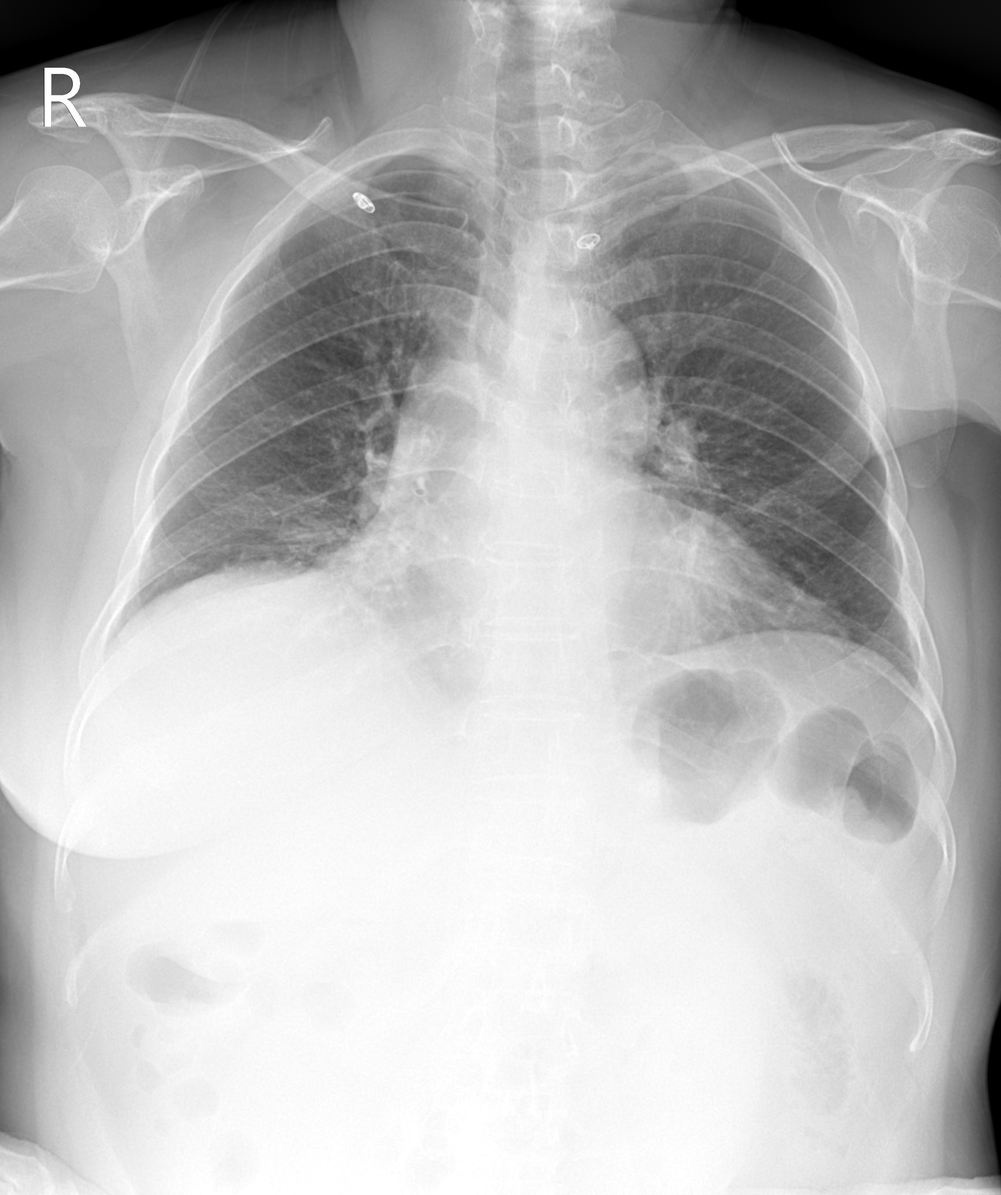Aortic enlargement: (514, 294, 650, 451)
Cardiomegaly: (332, 477, 771, 663)
Pleural thickening: (341, 149, 453, 171)
